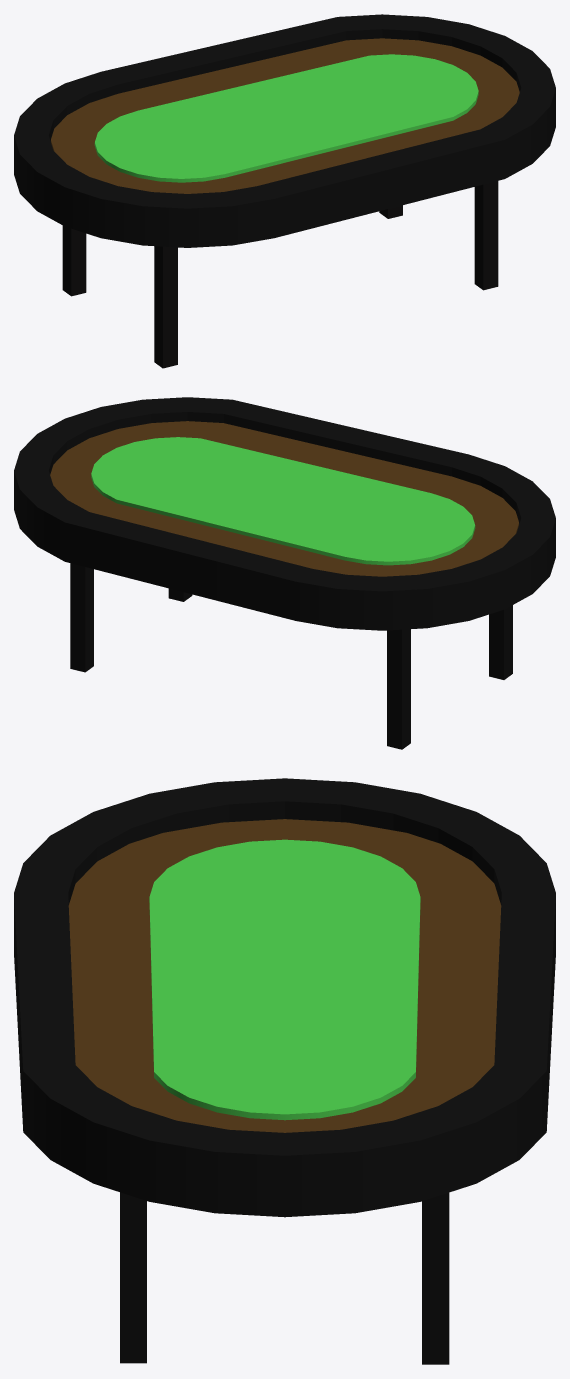
The model's file is poker-table.fbx.
3 views of the same model, one above another, from view 1: azimuth 30°, elevation 25°; view 2: azimuth 150°, elevation 25°; view 3: azimuth 270°, elevation 25° (orthographic). The views are drawn at different scales.
Parts seen in each view (by area): view 1: Cylinder, Cylinder1, Cylinder2, Box1, Box2, Box; view 2: Cylinder, Cylinder1, Cylinder2, Box, Box3, Box1; view 3: Cylinder, Cylinder1, Cylinder2, Box3, Box2.
Boxes of the visible parts, x1,y1,x2,y2 form: Cylinder: (14, 14, 555, 247); Cylinder1: (94, 54, 478, 182); Cylinder2: (51, 38, 519, 193); Box1: (154, 246, 177, 368); Box2: (474, 181, 498, 290); Box: (62, 225, 86, 296); Cylinder: (14, 397, 555, 630); Cylinder1: (91, 437, 475, 565); Cylinder2: (50, 421, 518, 576); Box: (387, 629, 410, 749); Box3: (70, 563, 93, 672); Box1: (489, 605, 512, 679); Cylinder: (14, 778, 555, 1217); Cylinder1: (149, 839, 420, 1120); Cylinder2: (68, 819, 501, 1132); Box3: (422, 1192, 449, 1364); Box2: (120, 1192, 146, 1363).
Size of the model in its own units: 32.96 by 11.16 by 20.
